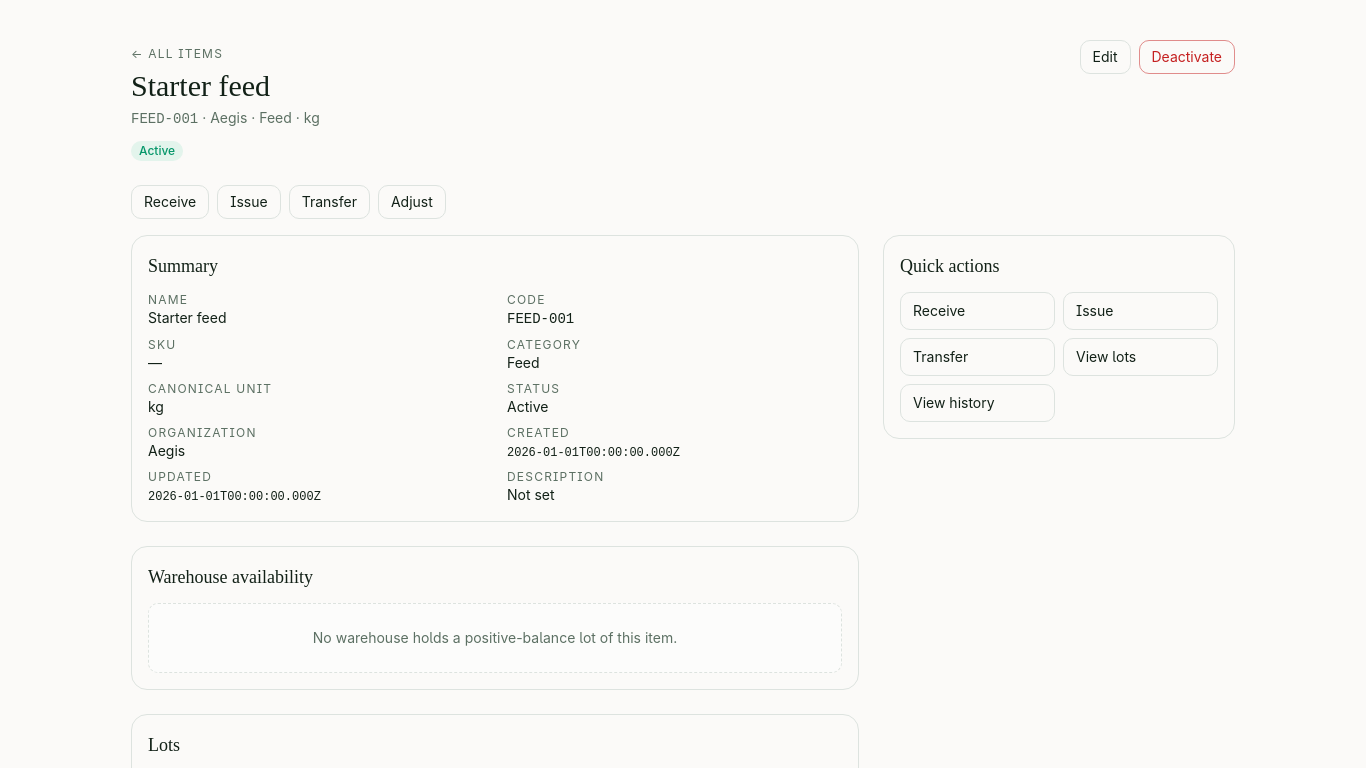
Test: StockOperationDialog — API validation field mapping › maps destination_warehouse_id to the visible Destination warehouse field
The width and height of the screenshot is (1366, 768).
Expected: the element with test id "item-detail-stock-actions" is shown, 131,185 -> 446,219
Click the button with test id "item-detail-stock-transfer" at (329, 202), box 289,185 -> 370,219
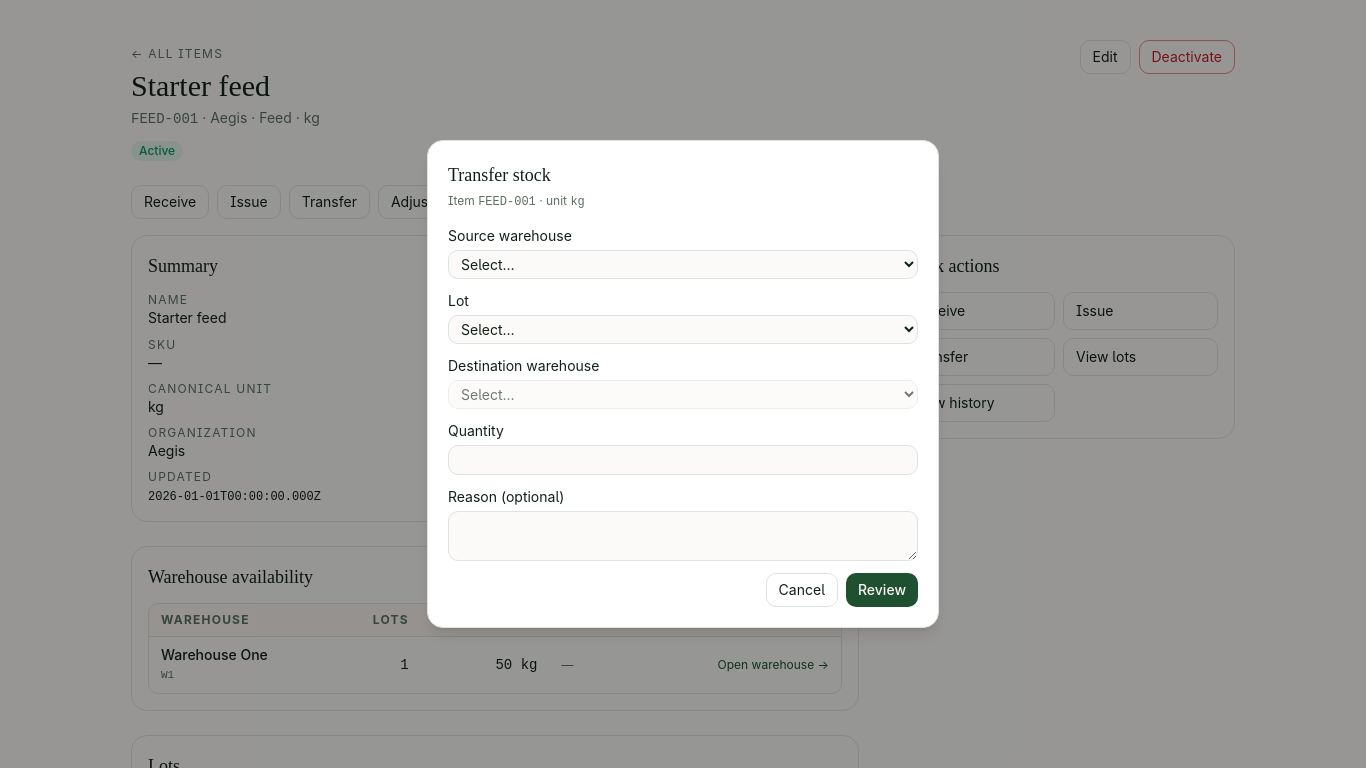
Select "Warehouse One" in the dropdown with test id "stock-op-transfer-warehouse" at (683, 264), box 448,250 -> 918,279
Select "L1 — bal 50 kg" in the dropdown with test id "stock-op-transfer-lot" at (683, 330), box 448,315 -> 918,344
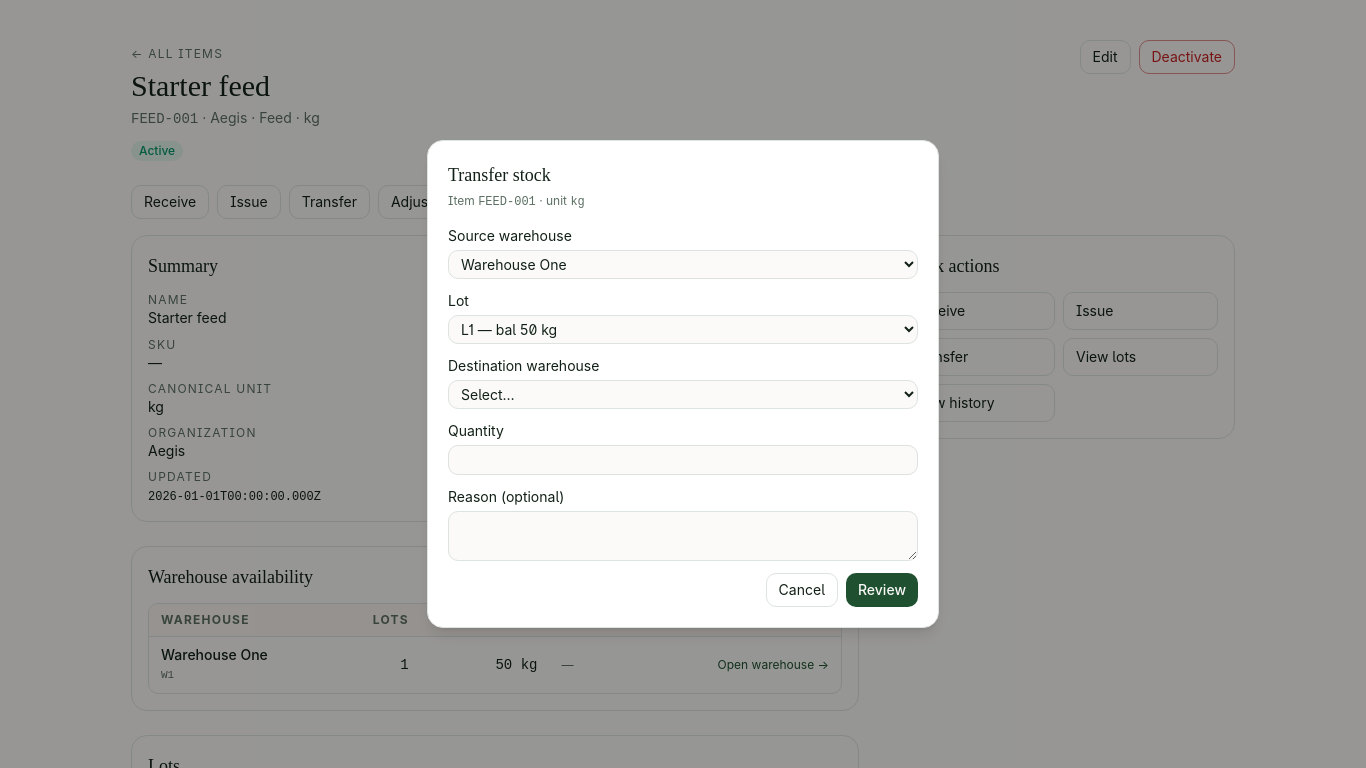
Select "Warehouse Two" in the dropdown with test id "stock-op-transfer-destination" at (683, 394), box 448,380 -> 918,409
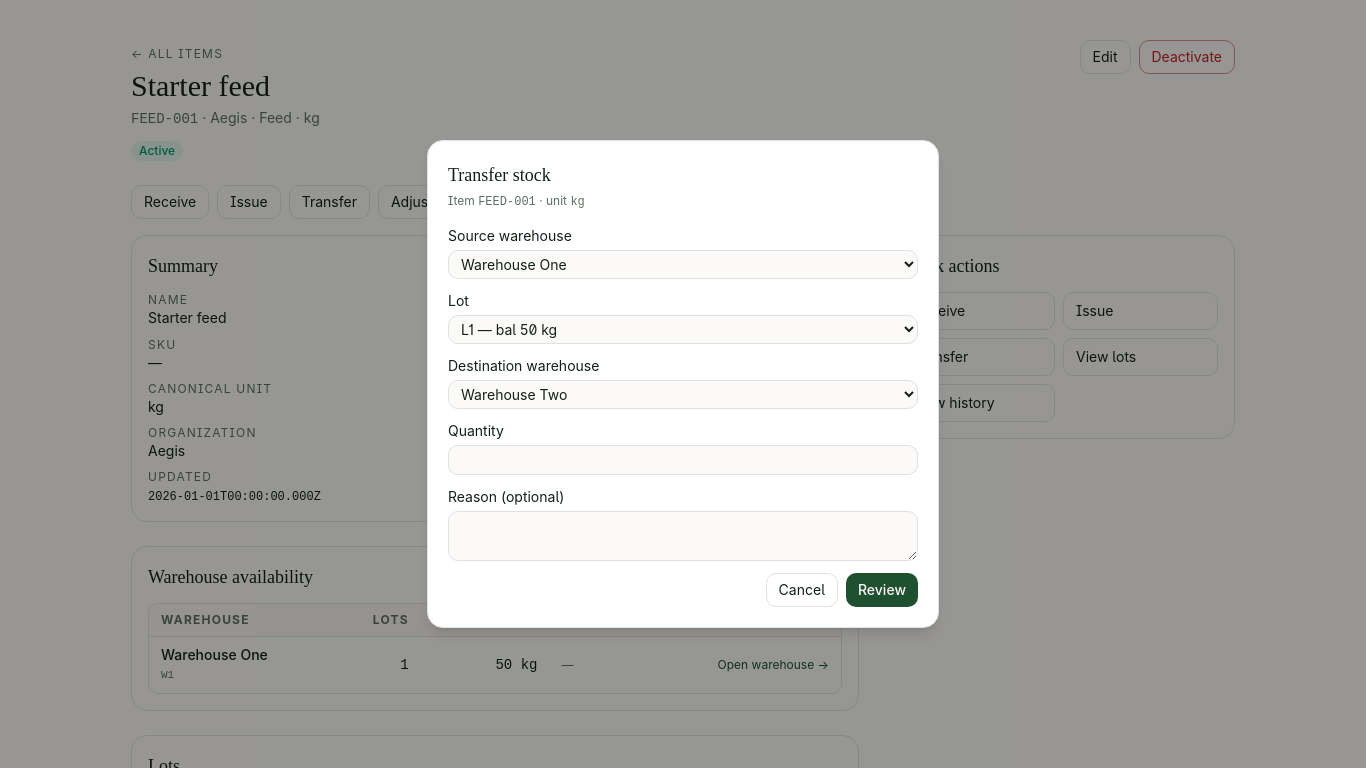
Type "3" into the number field with test id "stock-op-transfer-quantity" at (683, 460), box 448,445 -> 918,475
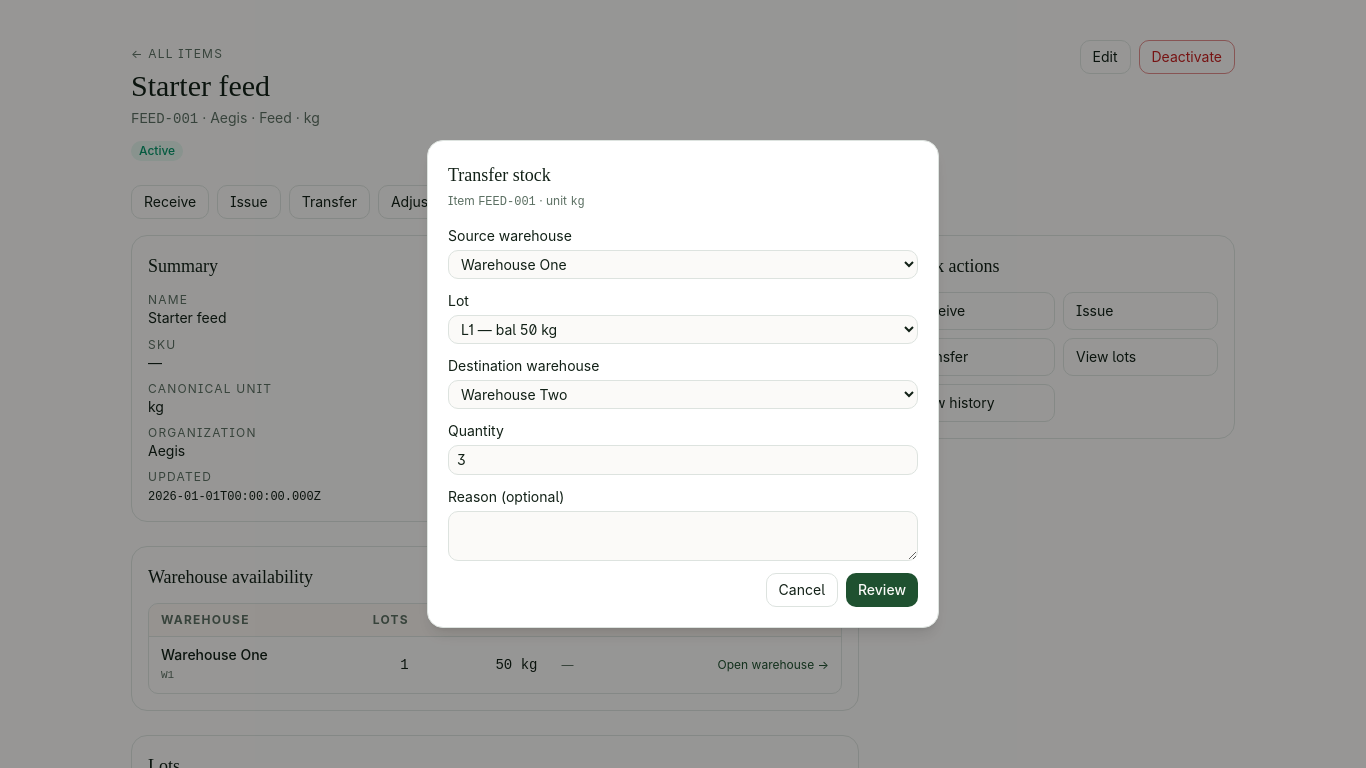
Click the button with test id "stock-op-transfer-submit" at (882, 590), box 846,573 -> 918,607
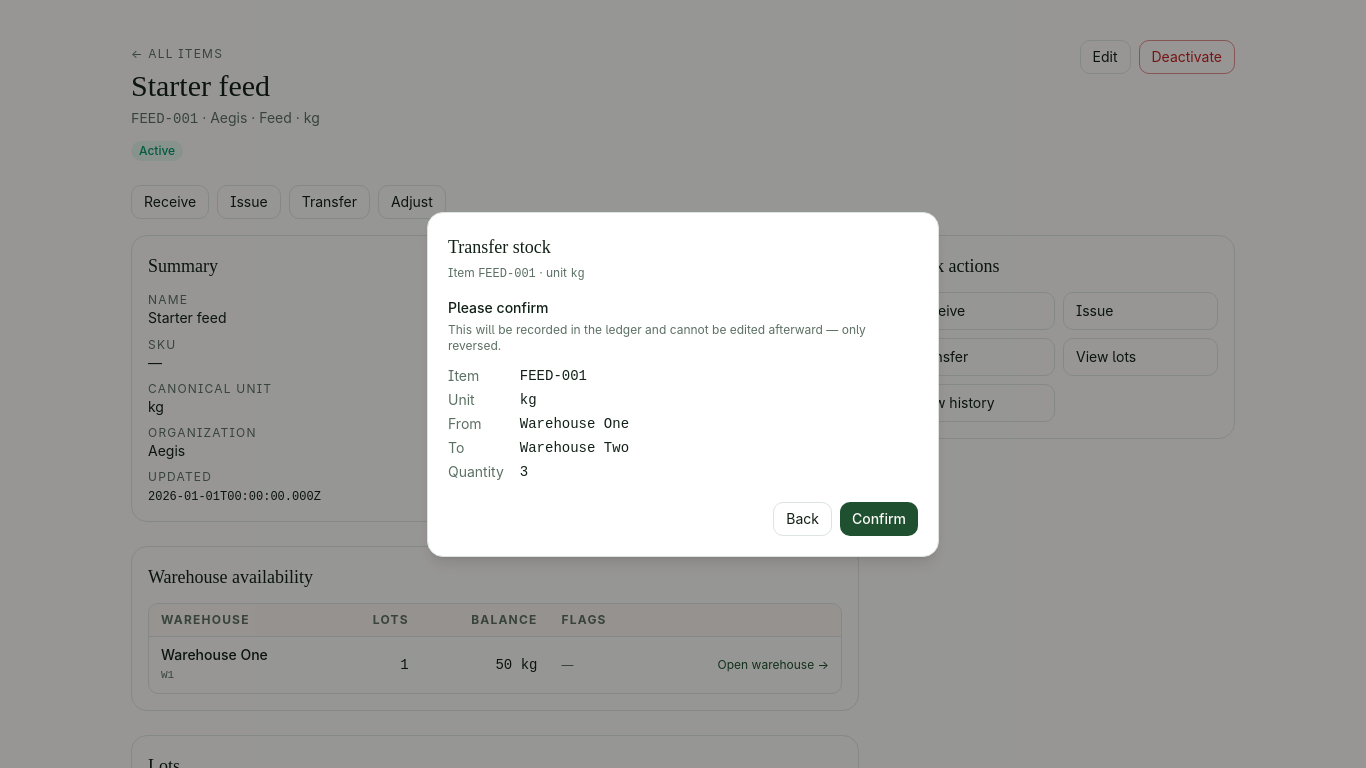
Result: the button with test id "stock-op-transfer-confirm" is shown
Click the button with test id "stock-op-transfer-confirm" at (879, 518), box 840,502 -> 918,536
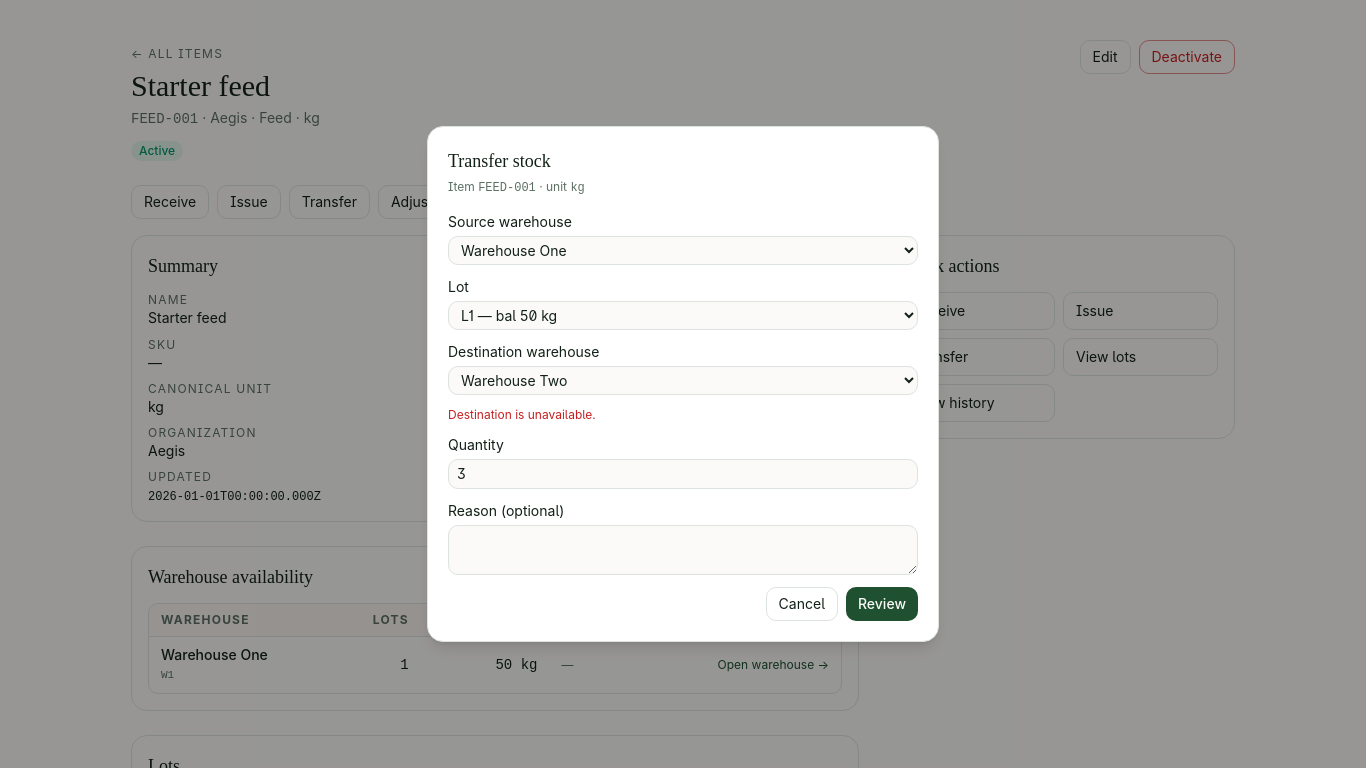
Result: the message with test id "stock-op-transfer-destination-error" reads "Destination is unavailable." at 448,407 -> 596,422
